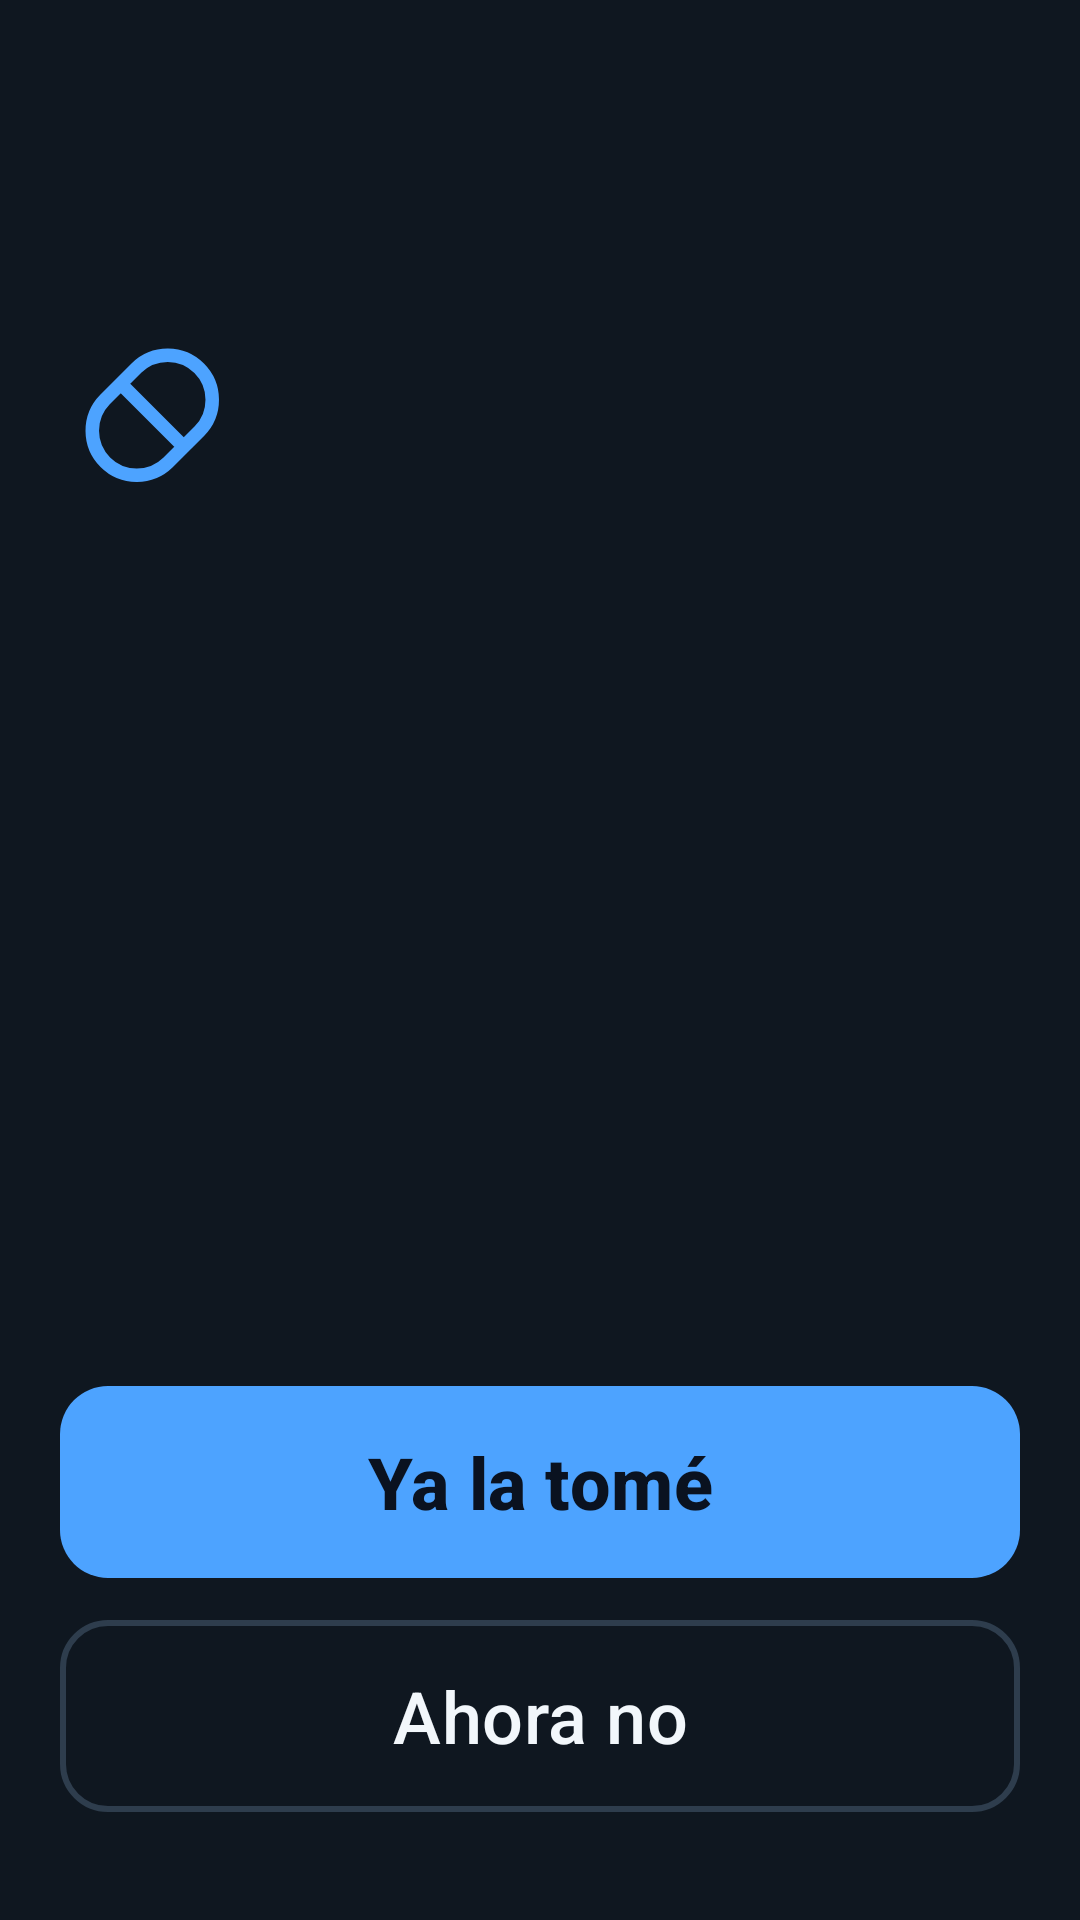

Locate icon controls on the screen. Image size 1080x1920, boxes as (x1, y1, x2, y2).
pastilla: (85, 348, 219, 482)
